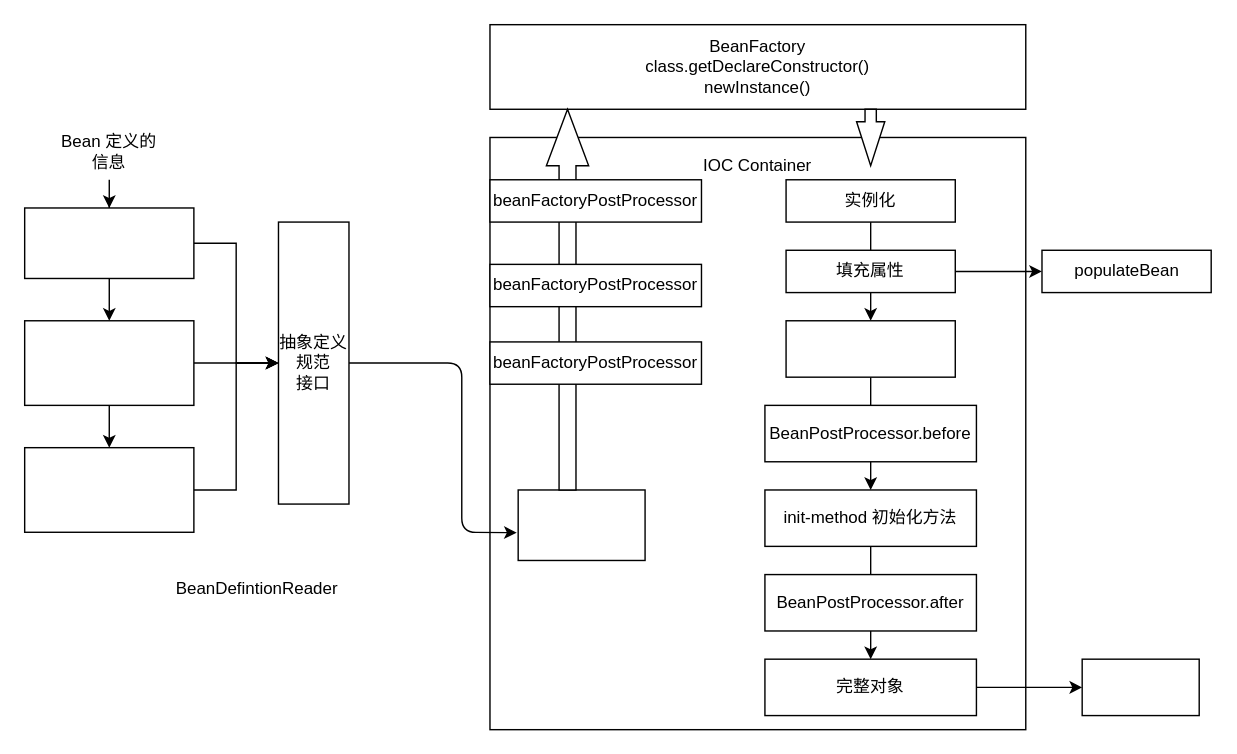
This 1237x754 diagram has some shape labels left out. Each missing label, with the box of its shape:
BeanDefinition bean 定义信息: (517, 489, 645, 560)
json: (23, 446, 194, 532)
xml: (23, 207, 194, 278)
执行aware接口需要实现的方法: (785, 319, 955, 377)
注解: (23, 319, 194, 405)
销毁流程: (1081, 658, 1199, 716)
